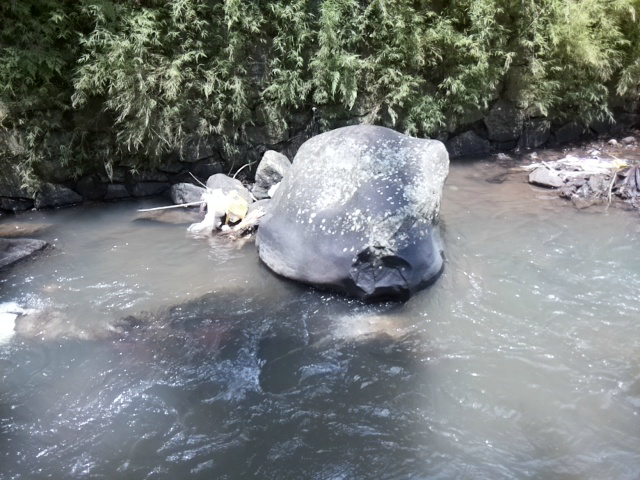Sampah_Plastik: (196, 185, 250, 227)
